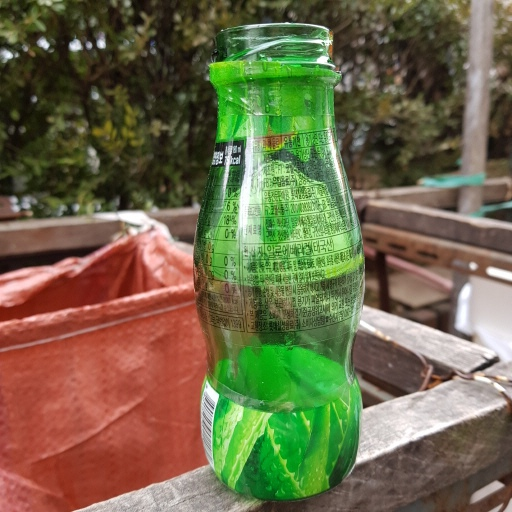Glass_4: (190, 24, 367, 499)
